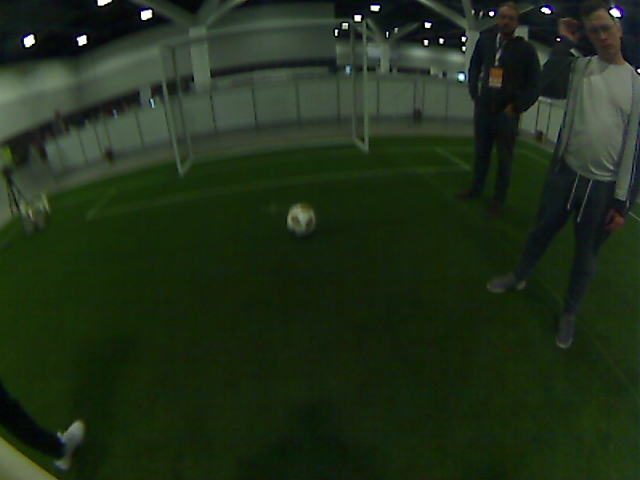ball: (280, 199, 320, 239)
goalpost: (164, 112, 201, 176), (353, 92, 383, 153)
robot: (18, 180, 58, 229)
